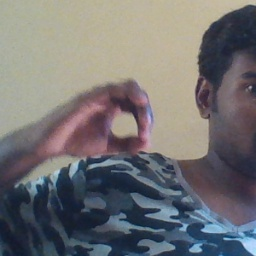O: (37, 76, 159, 162)
